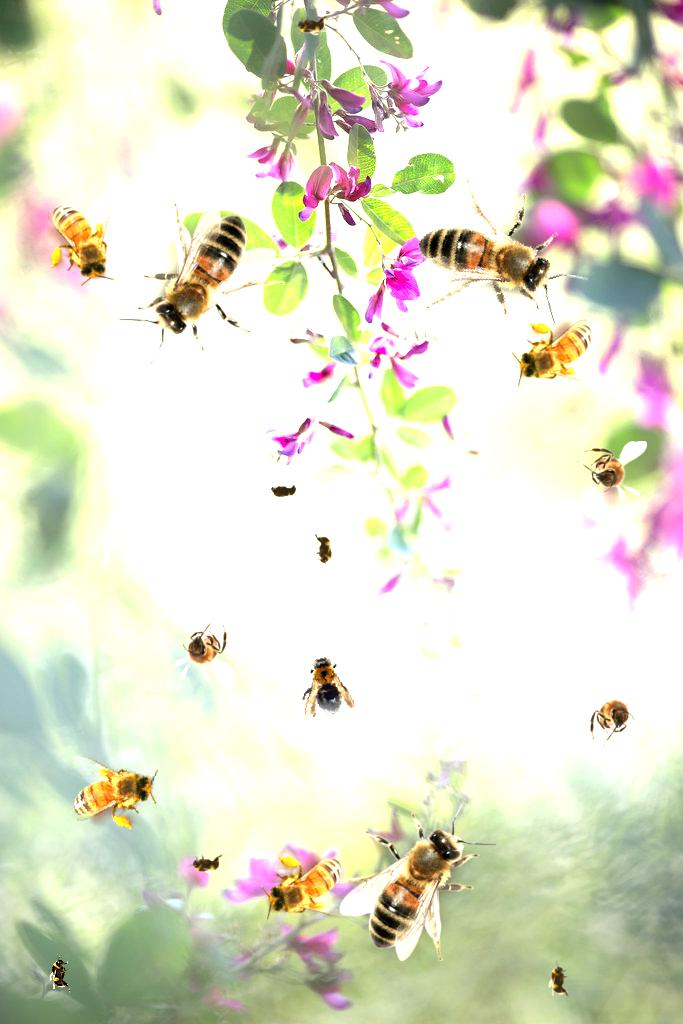Bee: (390, 151, 599, 363), (331, 799, 498, 961), (118, 203, 285, 365), (58, 749, 164, 838), (261, 853, 354, 921), (512, 319, 605, 387), (47, 193, 115, 286), (292, 647, 358, 725), (173, 617, 234, 687), (583, 677, 644, 747), (577, 441, 647, 502), (262, 477, 304, 503), (313, 530, 335, 570), (186, 853, 226, 875), (291, 14, 331, 36), (49, 953, 71, 993), (548, 960, 570, 1000)
